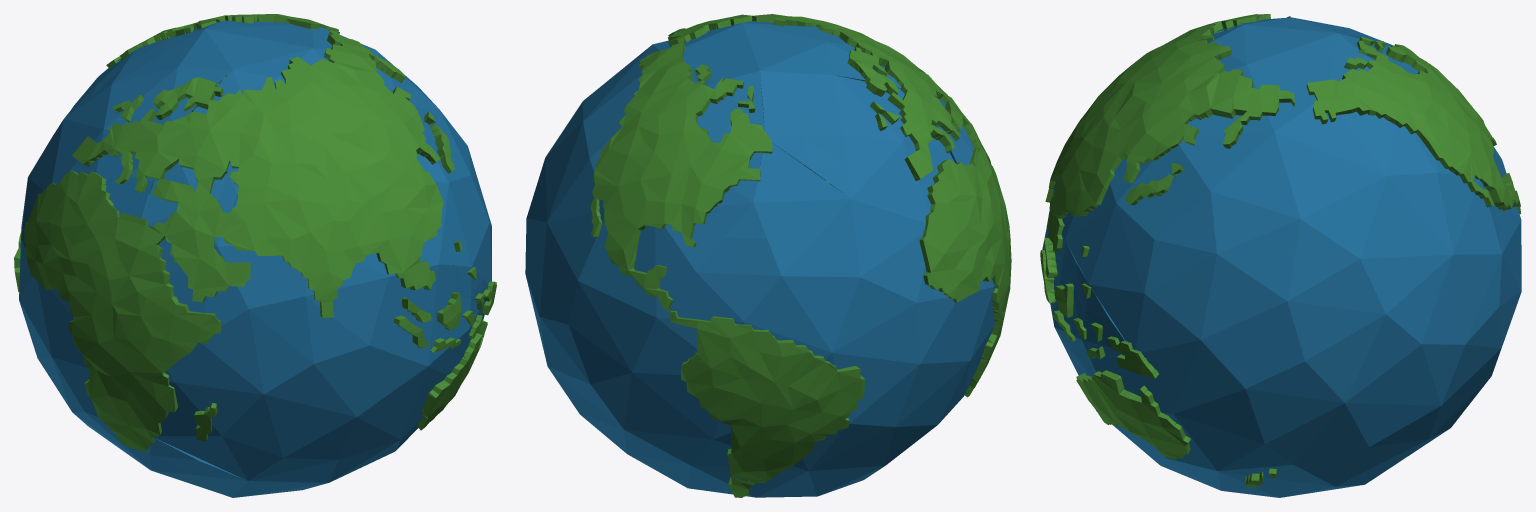
File: earthhipoly.obj
3 views of the same model, side by side, from view 1: azimuth 30°, elevation 25°; view 2: azimuth 150°, elevation 25°; view 3: azimuth 270°, elevation 25° (orthographic).
Parts seen in each view (by area): view 1: Land__Land__Land_Masses, Land__Land__Oceans; view 2: Land__Land__Oceans, Land__Land__Land_Masses; view 3: Land__Land__Oceans, Land__Land__Land_Masses.
Part boxes in pixels (x1,y1,x2,y2): Land__Land__Land_Masses: (14,14,496,452); Land__Land__Oceans: (19,20,491,497); Land__Land__Oceans: (525,21,995,497); Land__Land__Land_Masses: (590,14,1011,497); Land__Land__Oceans: (1042,17,1521,497); Land__Land__Land_Masses: (1040,14,1520,487).
Bounding box in the file's own units: 5.62 × 5.57 × 5.61.
